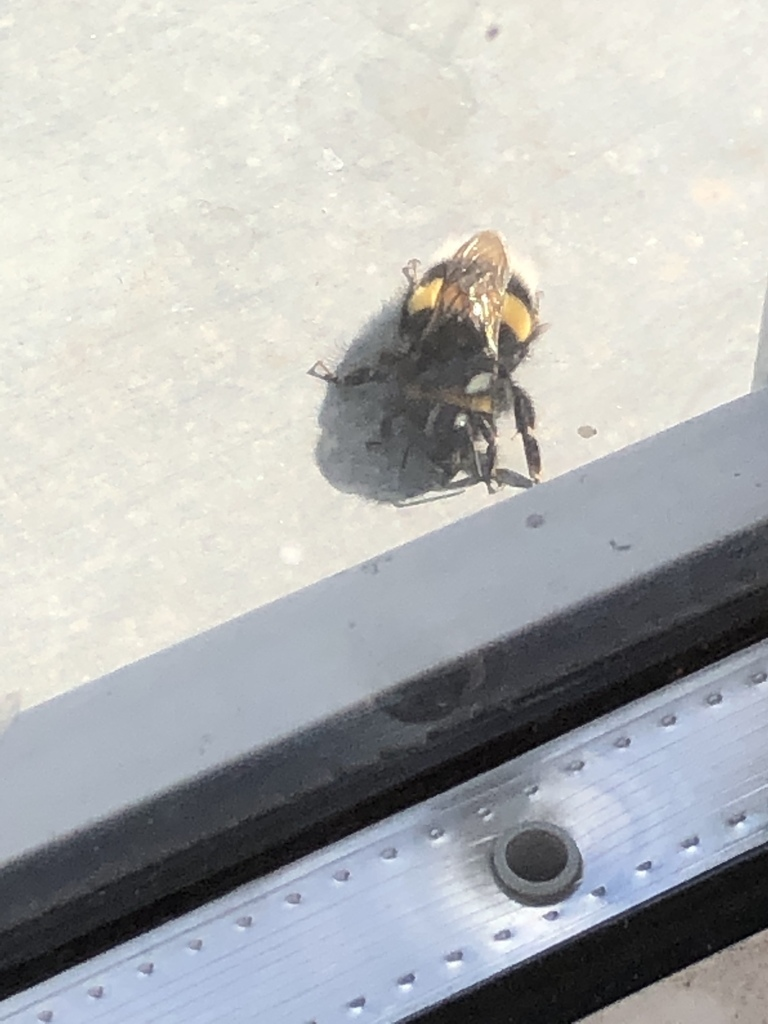bumblebee: (307, 229, 549, 494)
